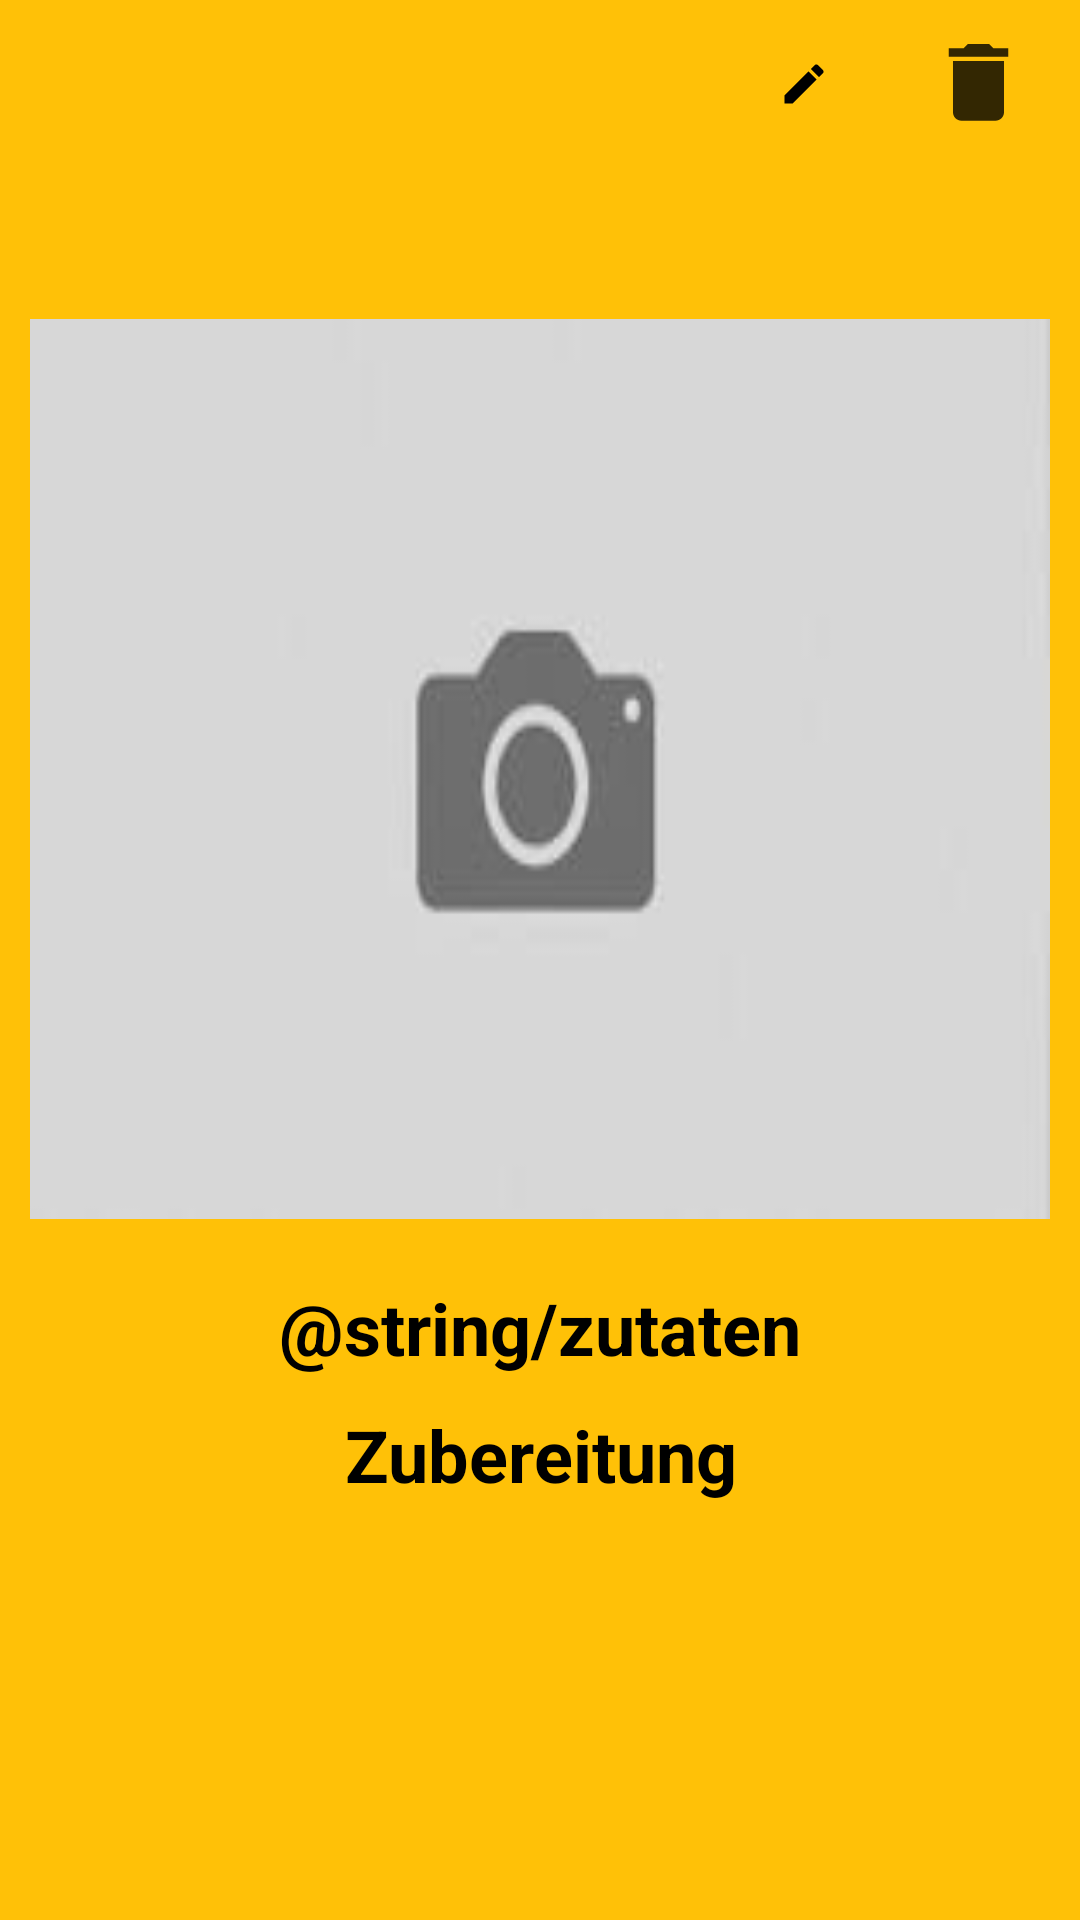

Named icons in this screenshot (1080px×1920px) and their bounding boxes, (x1=x1, y1=y1, x2=x2, y2=y2):
deleteicon: (x1=948, y1=44, x2=1009, y2=121)
edit: (x1=784, y1=64, x2=824, y2=104)
